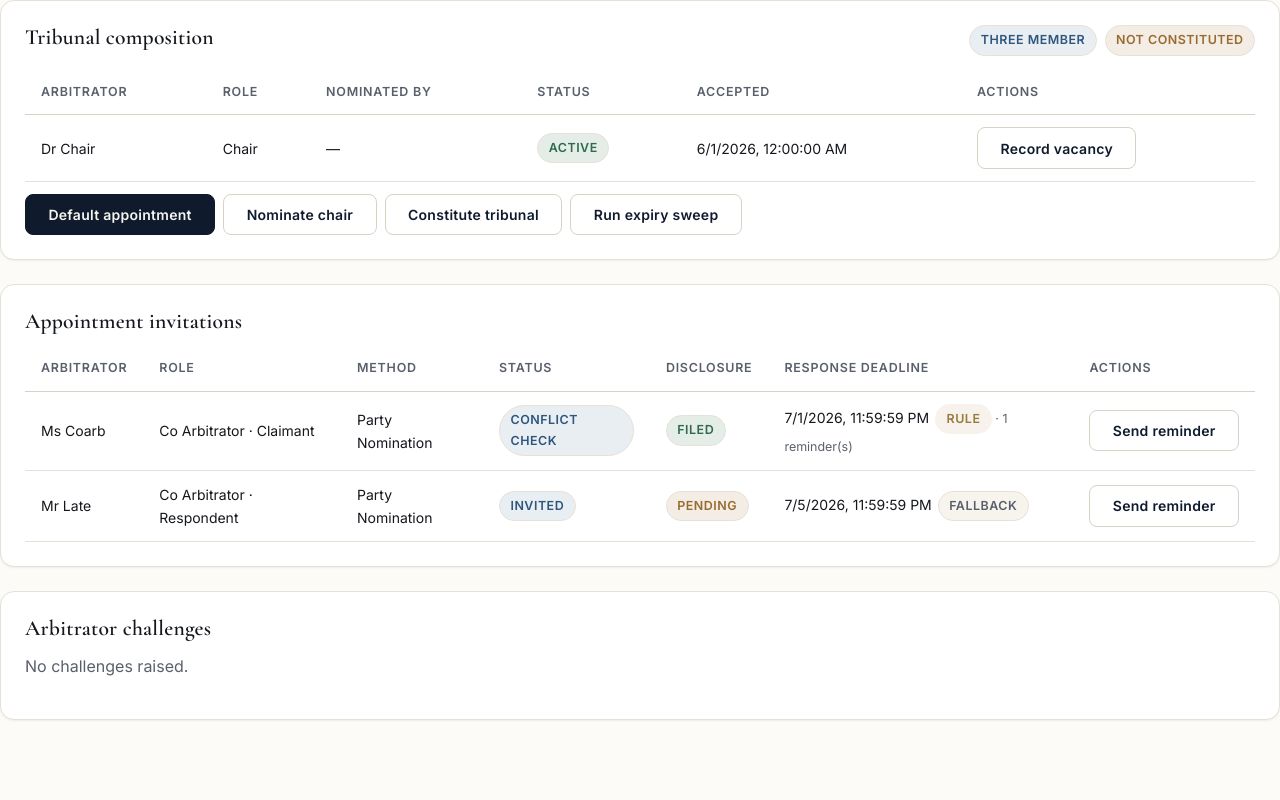
TribunalTab — action flows › confirms a vacancy through a dialog with a reason field
Check: the heading "Tribunal composition" is shown, box top-left (25, 25), bottom-right (214, 50)
Click the button "Record vacancy".
click(1057, 148)  # box top-left (977, 127), bottom-right (1136, 169)
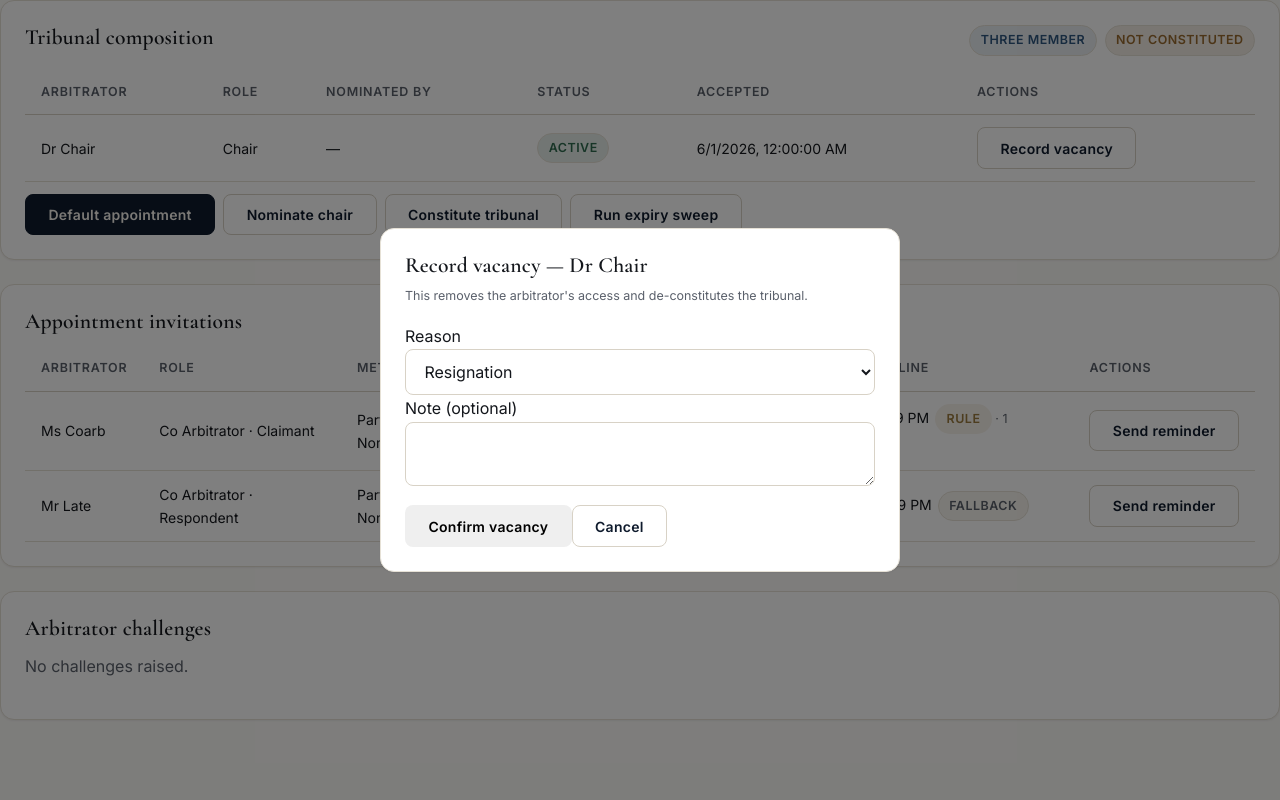
Check: the dropdown named "Vacancy reason" is shown, box top-left (405, 349), bottom-right (875, 395)
Click the button "Confirm vacancy".
click(488, 526)  # box top-left (405, 506), bottom-right (572, 547)
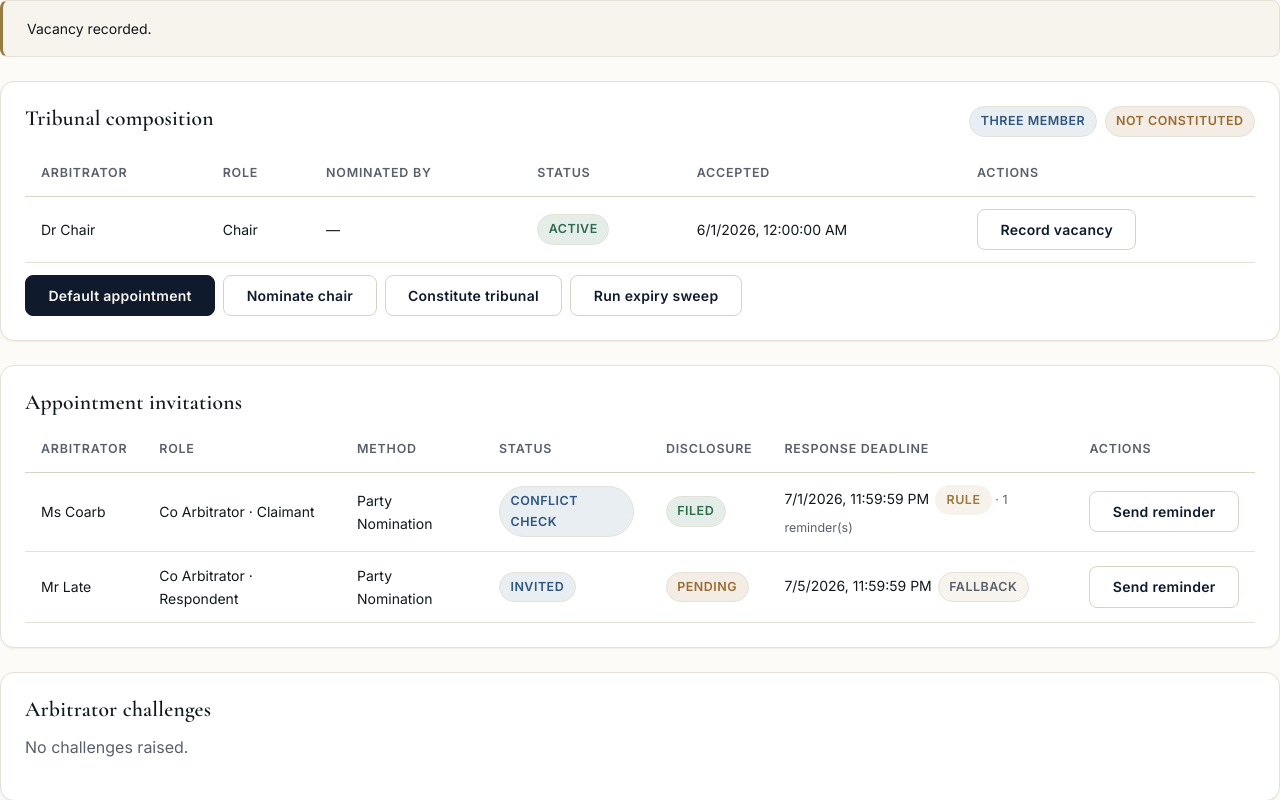
Check: the text "Vacancy recorded." is shown, box top-left (0, 0), bottom-right (1279, 57)
